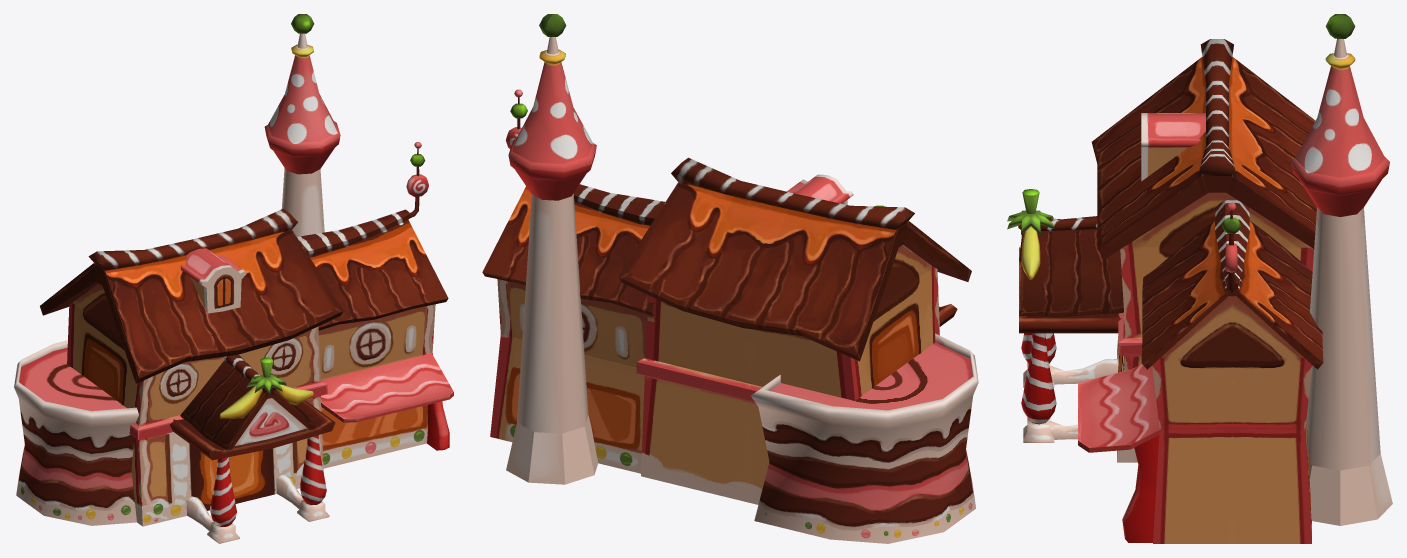
Rendered from common_obj_188.fbx.
The picture shows the model from 3 angles, left to right: view 1: azimuth 30°, elevation 25°; view 2: azimuth 150°, elevation 25°; view 3: azimuth 270°, elevation 25°; orthographic projection. The views are drawn at different scales.
Parts seen in each view (by area): view 1: Object022; view 2: Object022; view 3: Object022.
Part boxes in pixels (x1,y1,x2,y2): Object022: (14, 14, 453, 543); Object022: (482, 14, 978, 543); Object022: (1007, 14, 1392, 543).
Size of the model in its own units: 1515 by 1418 by 1013.
